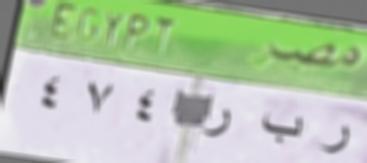4: (36, 70, 64, 118), (132, 86, 160, 128)
7: (82, 73, 115, 122)
baa: (258, 106, 304, 149)
raa: (318, 118, 353, 162), (199, 101, 235, 143)
